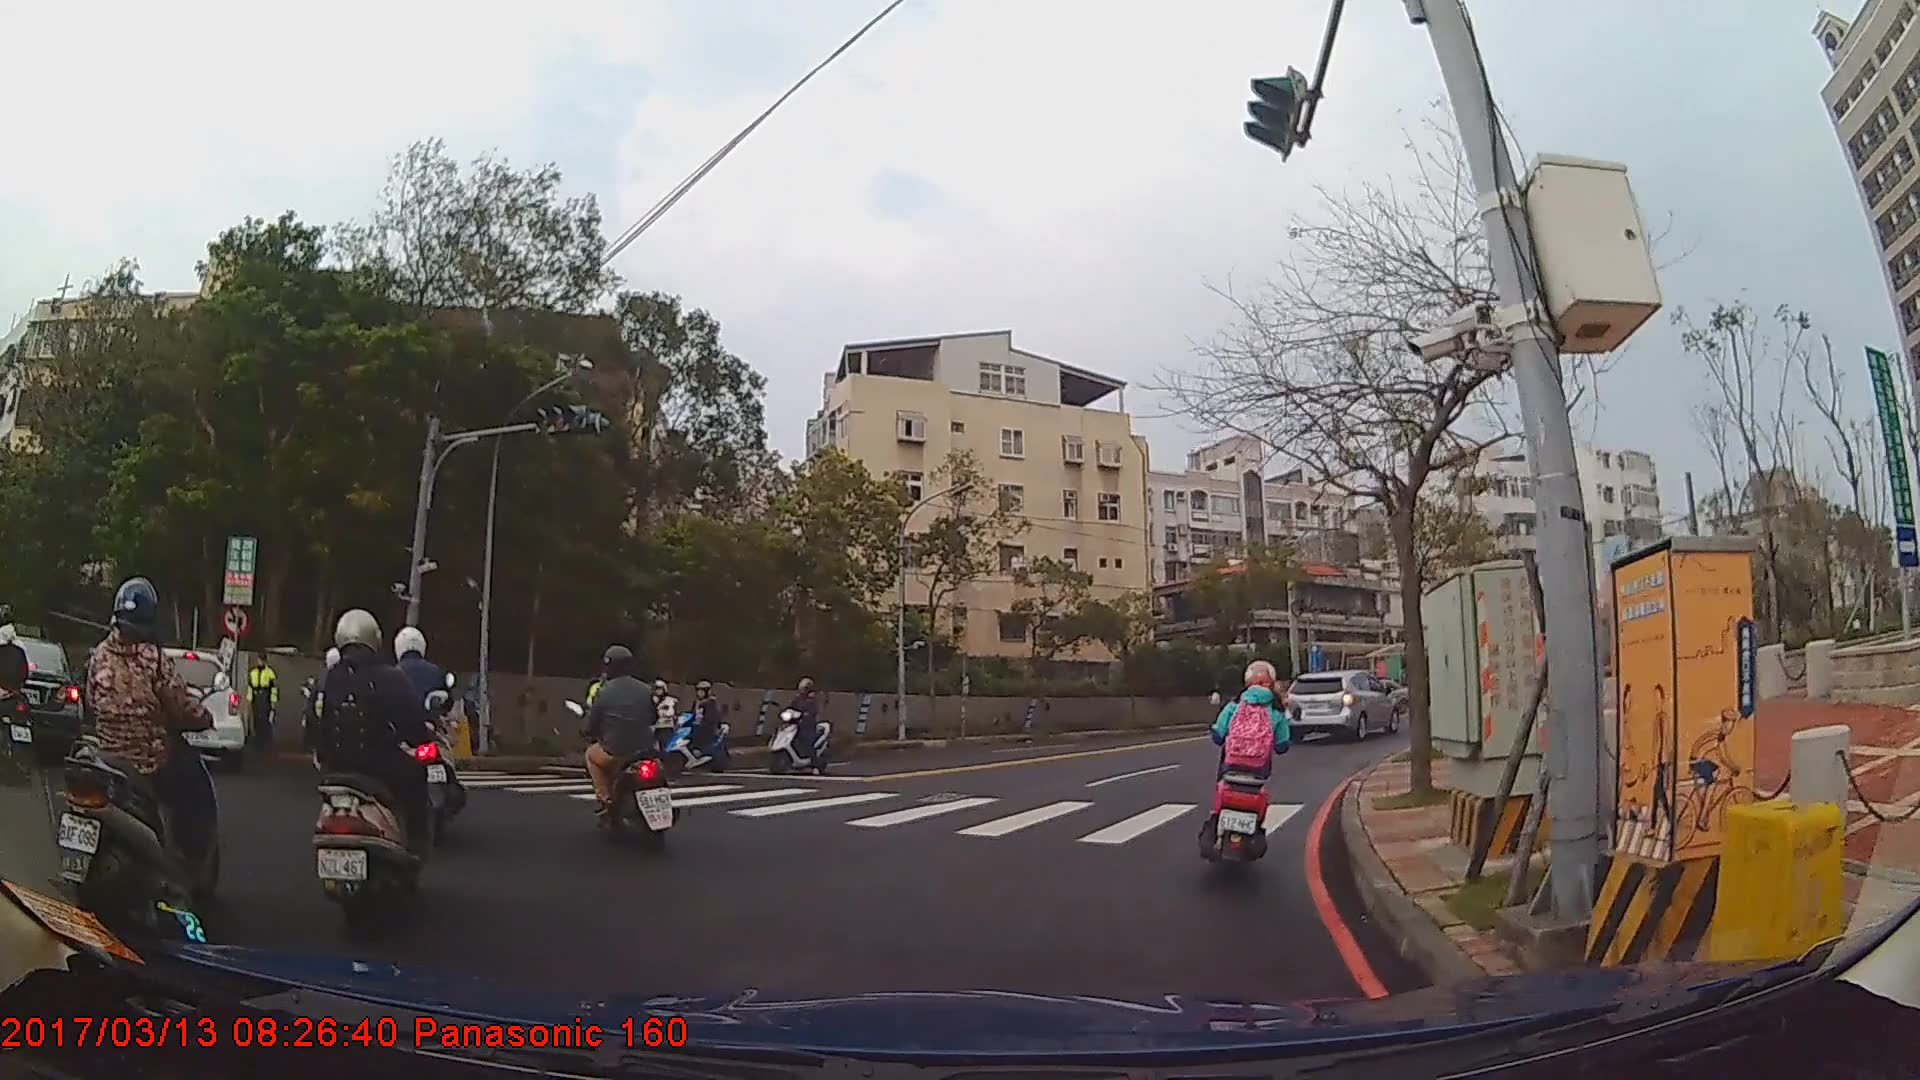pedestrian: (245, 650, 283, 757)
rider: (77, 578, 227, 942), (306, 605, 435, 917), (574, 643, 678, 855), (380, 625, 468, 845), (1208, 658, 1299, 863), (665, 679, 732, 774), (767, 676, 832, 773), (1, 603, 35, 772), (627, 676, 685, 764)
vehicle: (112, 646, 245, 767), (0, 636, 83, 760), (1279, 667, 1402, 745)
